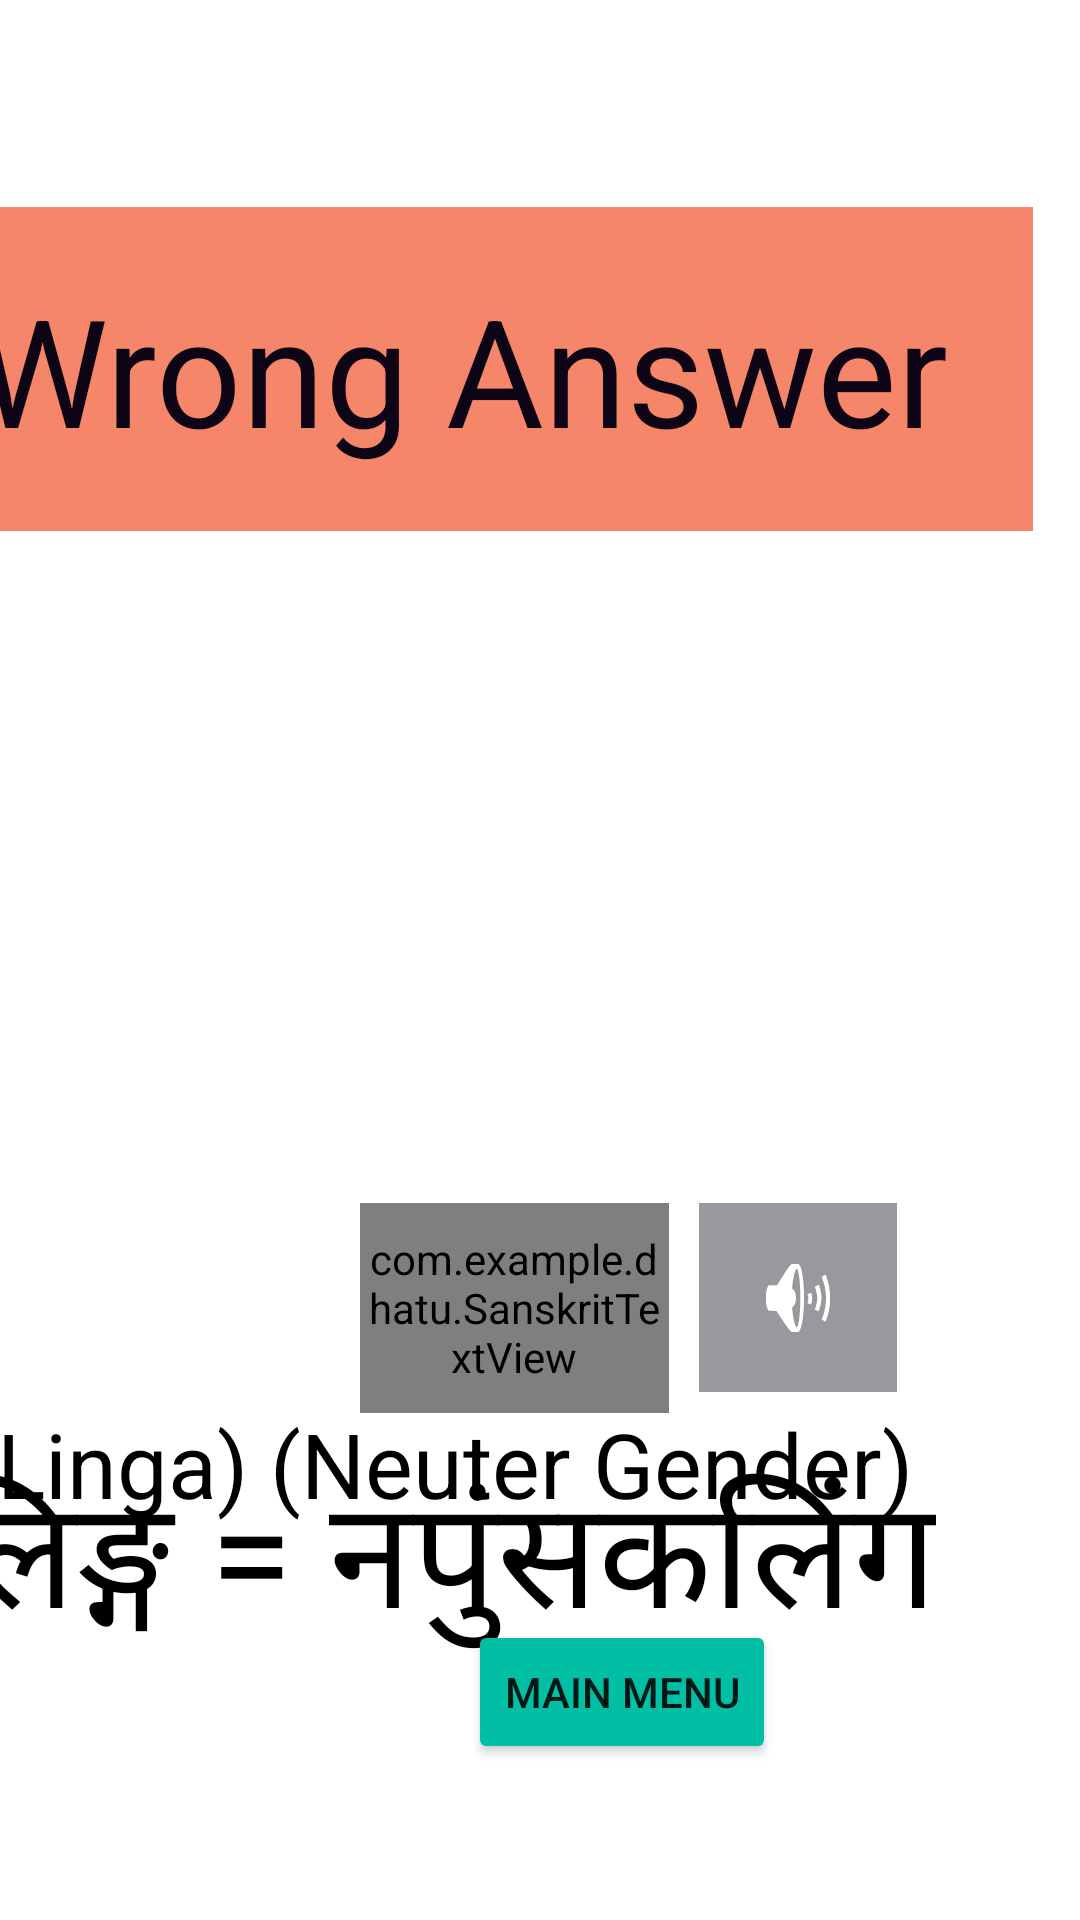

Where to tap for icons on this 1080px x 1920px app screen, as (x,y):
lock silent mode off: (798,1297)
